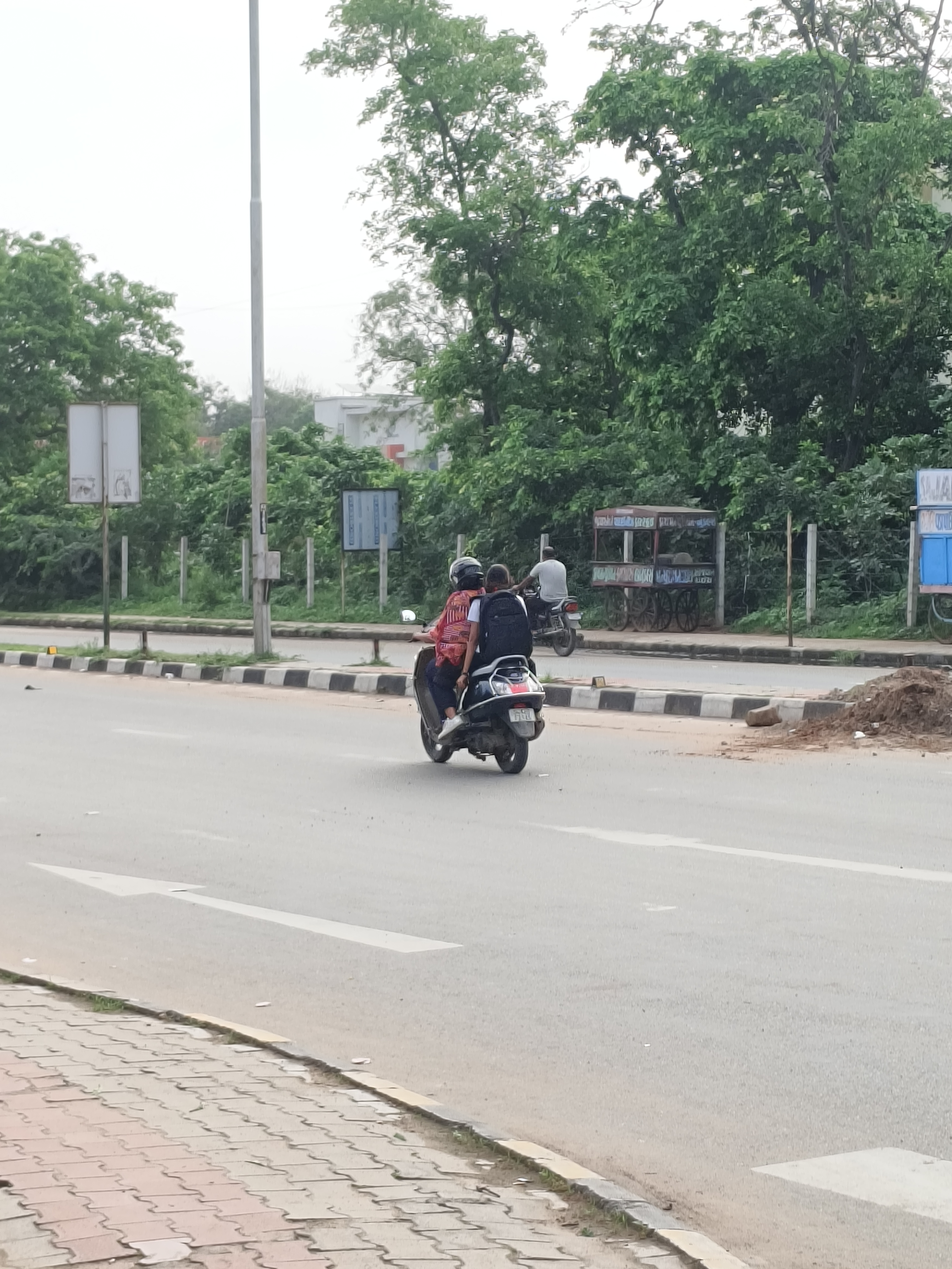BikeWithRider: (396, 553, 554, 778), (514, 543, 587, 660)
Helmet: (446, 553, 488, 596)
NoHelmet: (482, 562, 511, 596)
